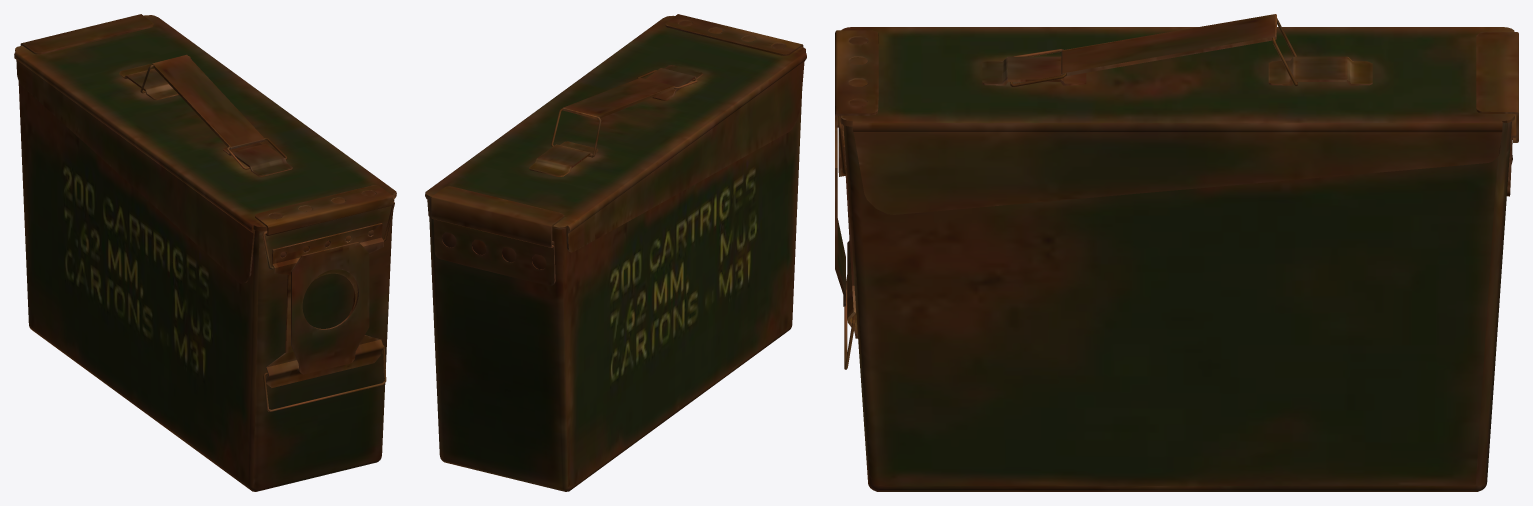
File: ammo_box.glb
The picture shows the model from 3 angles, left to right: view 1: azimuth 30°, elevation 25°; view 2: azimuth 150°, elevation 25°; view 3: azimuth 270°, elevation 25°; orthographic projection. The views are drawn at different scales.
Parts seen in each view (by area): view 1: ammo_box_handle_ring_b; view 2: ammo_box_handle_ring_b; view 3: ammo_box_handle_ring_b.
Part boxes in pixels (x1,y1,x2,y2): ammo_box_handle_ring_b: (14,14,396,491); ammo_box_handle_ring_b: (425,14,806,491); ammo_box_handle_ring_b: (835,14,1518,491).
Bounding box in the file's own units: 0.0865 × 0.1773 × 0.2578.
1 material, 1 textured.
